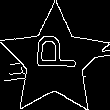P_W: (30, 42, 79, 79)
